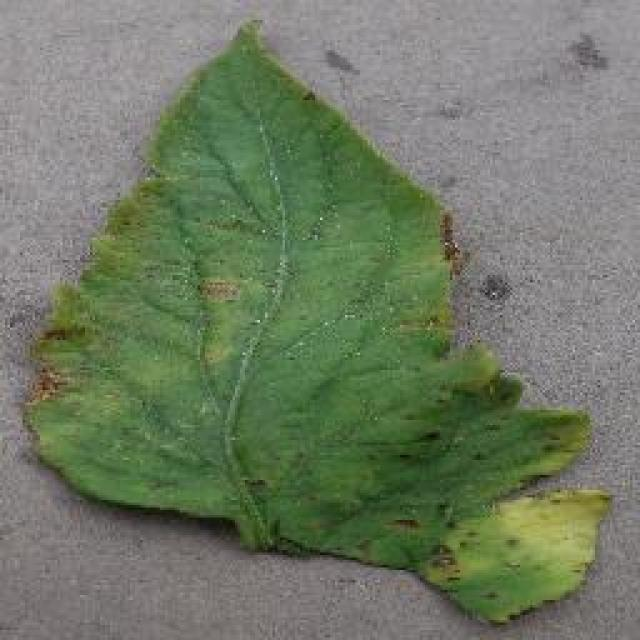Tomato___Bacterial_spot: (12, 17, 620, 630)
